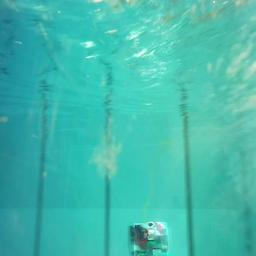front: (128, 221, 167, 253)
